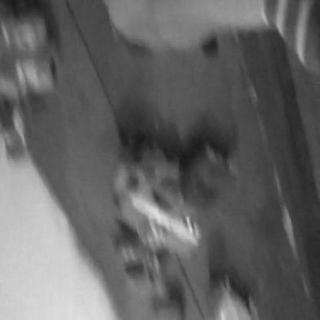other: (109, 141, 197, 259)
